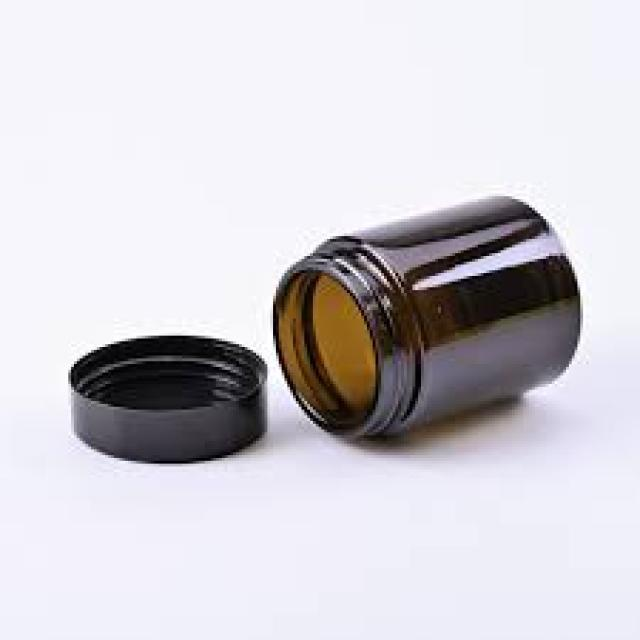Glass-Bottle: (269, 171, 596, 440), (66, 318, 278, 459)
